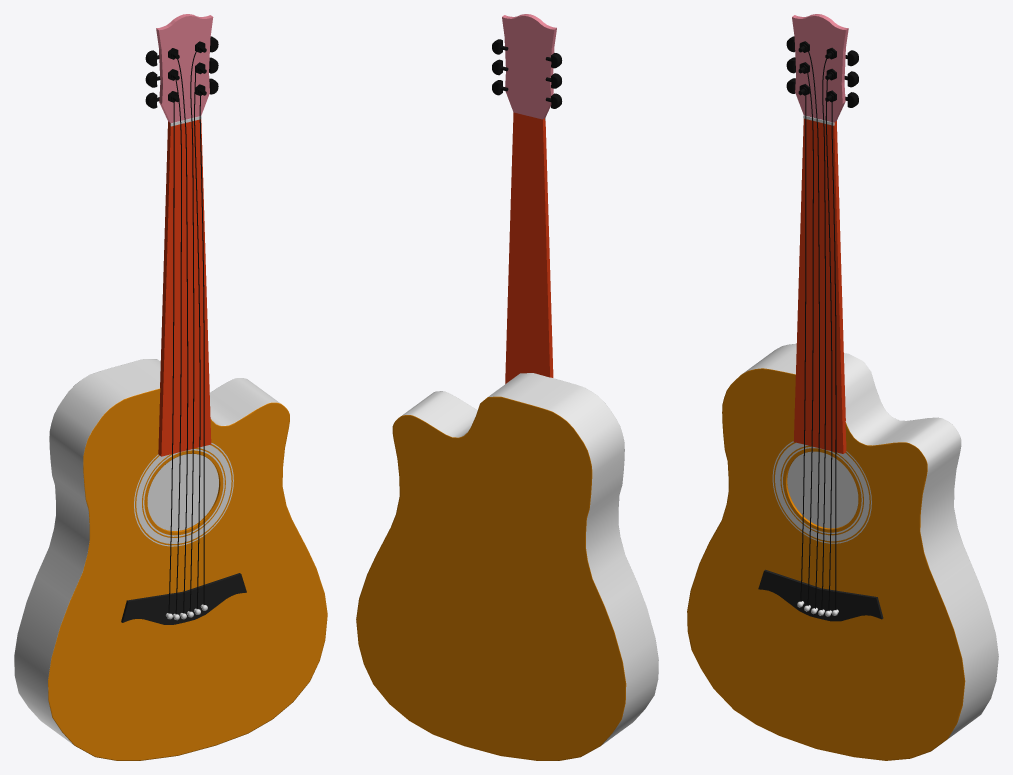
Rendered from Guiter.glb.
3 views of the same model, side by side, from view 1: azimuth 30°, elevation 25°; view 2: azimuth 150°, elevation 25°; view 3: azimuth 330°, elevation 25° (orthographic). The views are drawn at different scales.
Parts seen in each view (by area): view 1: guitar_base, guitar_handle, guitar_strings, guitar_cable fixing base, guitar_adjust strings, guitar_freeze strings; view 2: guitar_base, guitar_handle, guitar_adjust strings; view 3: guitar_base, guitar_handle, guitar_strings, guitar_cable fixing base, guitar_adjust strings, guitar_freeze strings.
Part boxes in pixels (<box>): guitar_base: <box>14,359,327,760</box>; guitar_handle: <box>156,14,213,456</box>; guitar_strings: <box>168,51,204,614</box>; guitar_cable fixing base: <box>121,573,246,624</box>; guitar_adjust strings: <box>145,36,218,108</box>; guitar_freeze strings: <box>168,41,206,102</box>; guitar_base: <box>356,373,658,760</box>; guitar_handle: <box>502,14,556,383</box>; guitar_adjust strings: <box>492,39,562,108</box>; guitar_base: <box>687,343,998,760</box>; guitar_handle: <box>792,14,848,453</box>; guitar_strings: <box>800,51,836,610</box>; guitar_cable fixing base: <box>758,569,883,621</box>; guitar_adjust strings: <box>786,36,858,107</box>; guitar_freeze strings: <box>798,41,836,102</box>.
Bounding box in the file's own units: 0.3774 × 0.954 × 0.0976.
